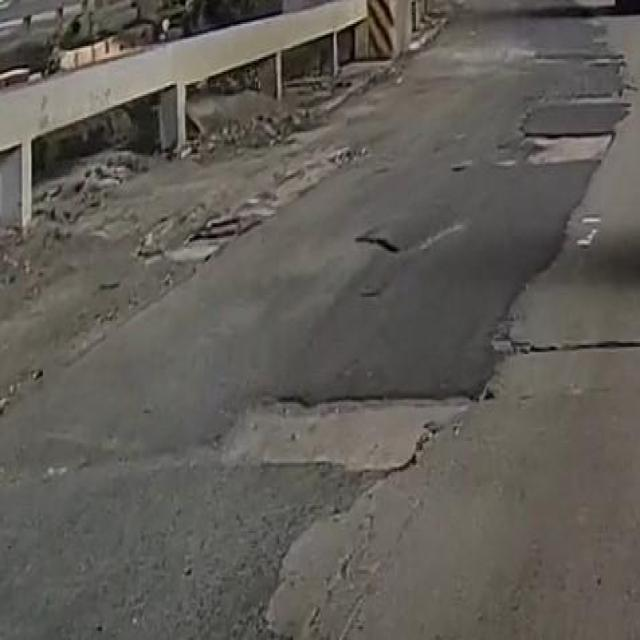Pothole: (214, 386, 500, 469)
